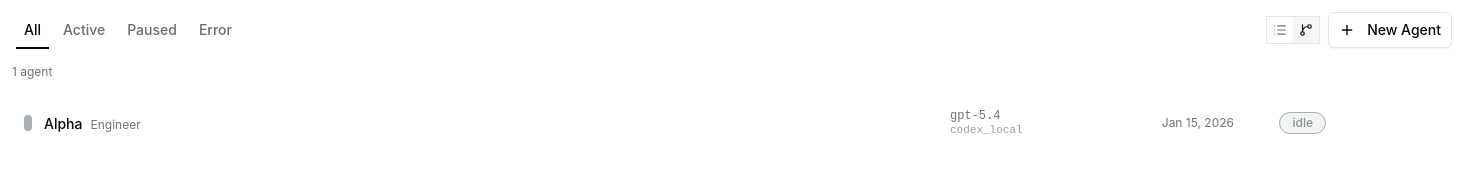
Test: Agents › gives list-view rows a fixed-width title so meta columns align (PAP-86)
Click the button named "List view": (1280, 30) [1267,17,1293,43]
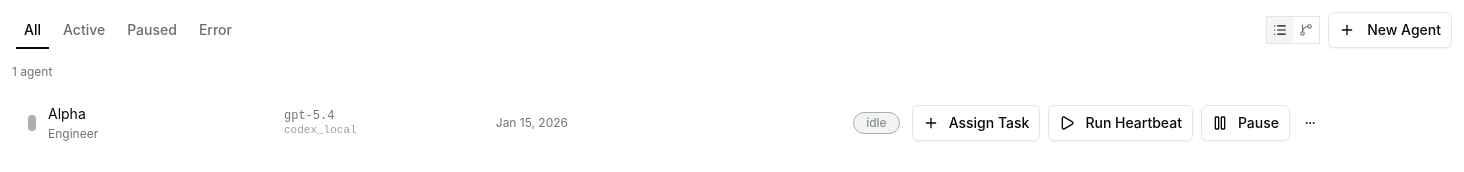
Expected: the element showing "Alpha Engineer" is shown, [48,105,98,141]
